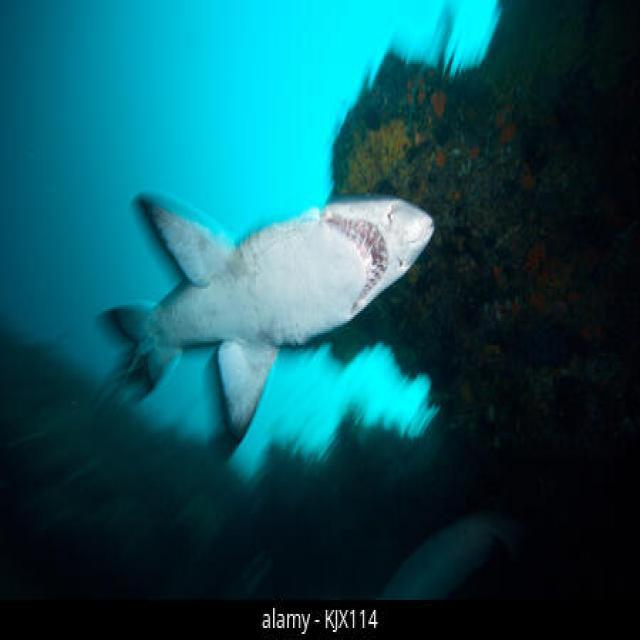Shark: (85, 124, 434, 466)
